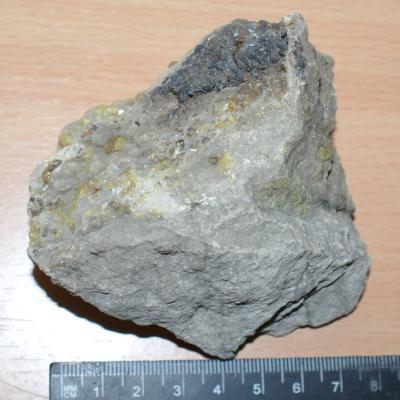mineralogy: (26, 13, 372, 361)
